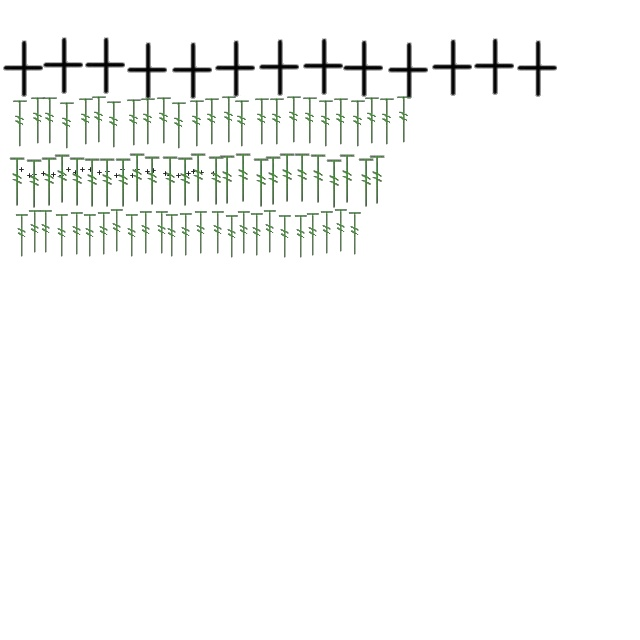double: (40, 37, 86, 95), (82, 37, 128, 95), (124, 42, 170, 100), (212, 40, 258, 98), (256, 39, 302, 97), (300, 38, 346, 96), (340, 40, 386, 98), (514, 40, 560, 98), (0, 40, 44, 98), (170, 42, 214, 100), (386, 42, 430, 100), (430, 39, 474, 97), (472, 38, 516, 96), (32, 172, 38, 178), (52, 172, 56, 178), (66, 168, 72, 172), (74, 170, 78, 176), (80, 168, 86, 172), (88, 168, 94, 172), (98, 170, 102, 176), (114, 174, 120, 178), (120, 168, 126, 172), (130, 174, 136, 178), (152, 168, 156, 174), (176, 174, 182, 178), (186, 172, 192, 176), (200, 170, 204, 176), (20, 168, 24, 172), (28, 174, 32, 178), (42, 172, 46, 176), (60, 174, 64, 178), (106, 170, 110, 174), (136, 168, 140, 172), (146, 170, 150, 174), (164, 172, 168, 176), (168, 174, 172, 178), (192, 170, 196, 174), (212, 172, 216, 176)
fan: (8, 156, 28, 208), (40, 156, 60, 208), (68, 156, 88, 208), (128, 152, 148, 204), (176, 156, 196, 208), (218, 154, 238, 206), (234, 152, 254, 204), (278, 152, 298, 204), (368, 154, 388, 206), (98, 158, 118, 208), (114, 158, 134, 208), (252, 158, 272, 208), (264, 156, 284, 206), (338, 154, 358, 204), (11, 98, 29, 150), (58, 100, 76, 152), (77, 96, 95, 148), (90, 94, 108, 146), (139, 96, 157, 148), (170, 100, 188, 152), (188, 98, 206, 150), (203, 96, 221, 148), (220, 94, 238, 146), (233, 98, 251, 150), (253, 96, 271, 148), (268, 96, 286, 148), (285, 94, 303, 146), (317, 98, 335, 150), (332, 96, 350, 148), (349, 98, 367, 150), (378, 96, 396, 148), (395, 94, 413, 146), (26, 158, 44, 210), (190, 152, 208, 204), (294, 152, 312, 204), (326, 158, 344, 210), (29, 96, 47, 146), (41, 96, 59, 146), (105, 100, 123, 150), (125, 98, 143, 148), (155, 96, 173, 146), (301, 96, 319, 146), (363, 96, 381, 146), (54, 154, 72, 204), (84, 158, 102, 208), (144, 156, 162, 206), (162, 156, 180, 206), (208, 156, 226, 206), (310, 154, 328, 204), (358, 158, 376, 208), (14, 212, 30, 260), (27, 208, 43, 256), (38, 208, 54, 256), (54, 212, 70, 260), (69, 210, 85, 258), (82, 212, 98, 260), (96, 210, 112, 258), (124, 212, 140, 260), (164, 212, 180, 260), (262, 208, 278, 256), (347, 210, 363, 258), (109, 208, 125, 254), (138, 210, 154, 256), (154, 210, 170, 256), (178, 212, 194, 258), (193, 210, 209, 256), (210, 210, 226, 256), (224, 214, 240, 260), (236, 210, 252, 256), (249, 212, 265, 258), (277, 214, 293, 260), (293, 214, 309, 260), (305, 212, 321, 258), (319, 210, 335, 256), (333, 208, 349, 254)
